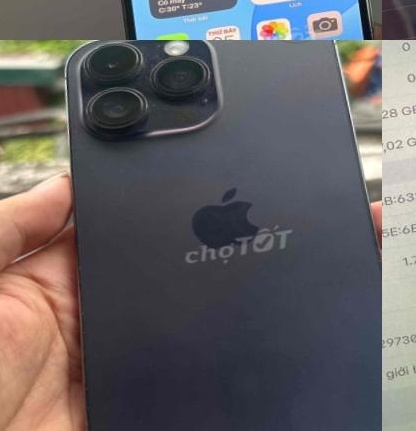physical_damage: (242, 40, 357, 87)
scratch: (139, 40, 200, 79), (141, 91, 190, 135)
